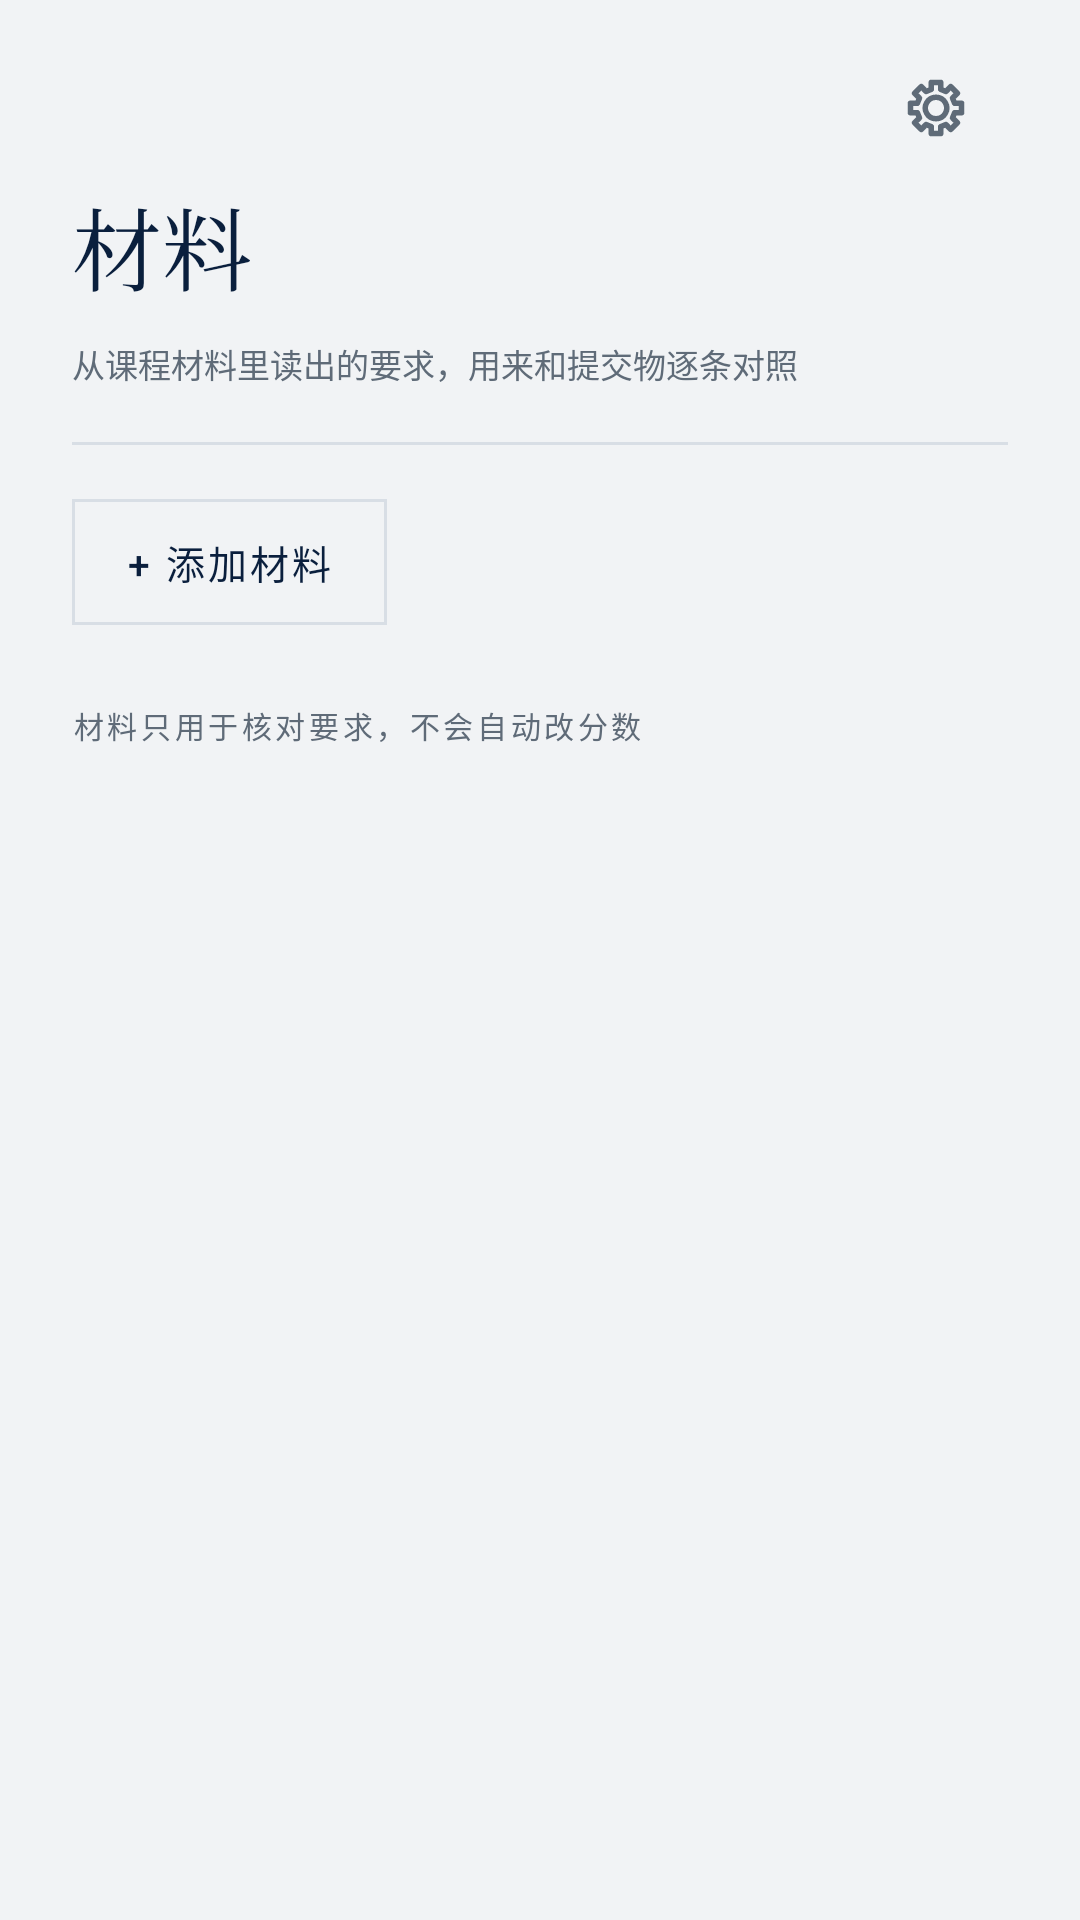

Named icons in this screenshot (1080w x 1920h) and their bounding boxes, (x1, y1, x2, y2):
设置: (907, 79, 965, 137)
